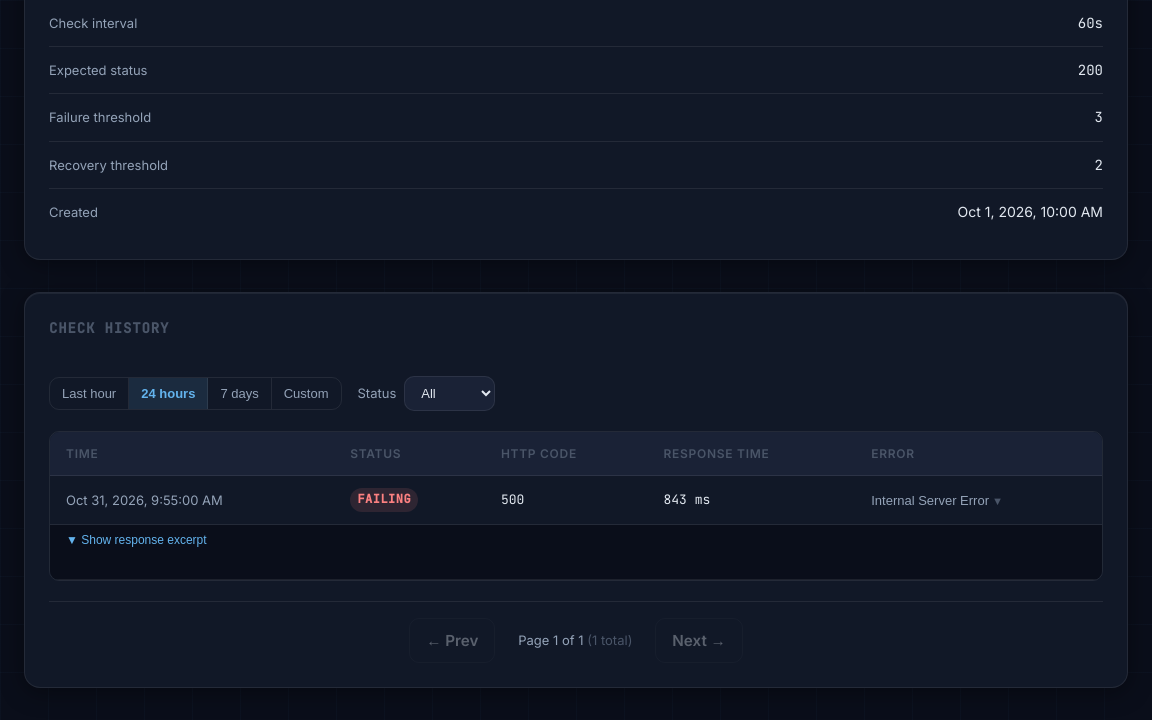
Test: CheckHistory — response body excerpt › renders response_body_excerpt as plain text in an expandable row
The image size is (1152, 720).
(page scrolled)
Expected: the table with test id "ch-table" is shown, left=50, top=432, right=1102, bottom=580
Click to expand
Click the button "Internal Server Error ▼".
click(937, 500)  # box left=871, top=493, right=1003, bottom=508
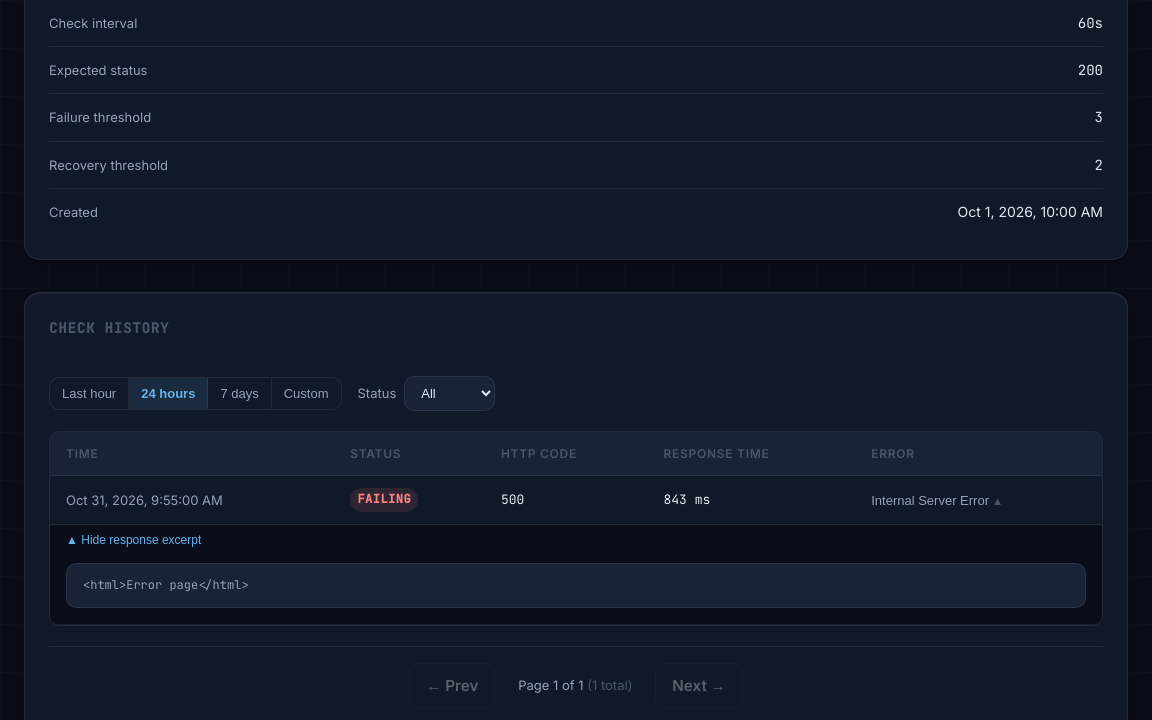
Now the text "<html>Error page</html>" is shown, box left=66, top=563, right=1086, bottom=608
